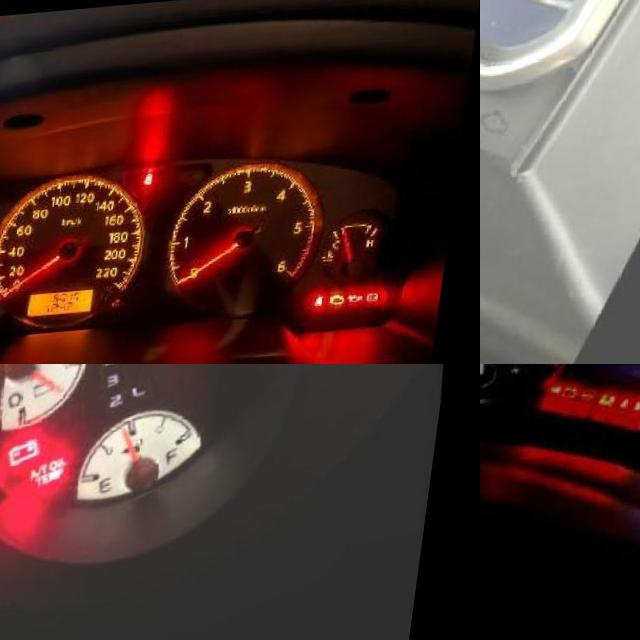High Engine Coolant Temperature: (331, 260, 345, 273)
